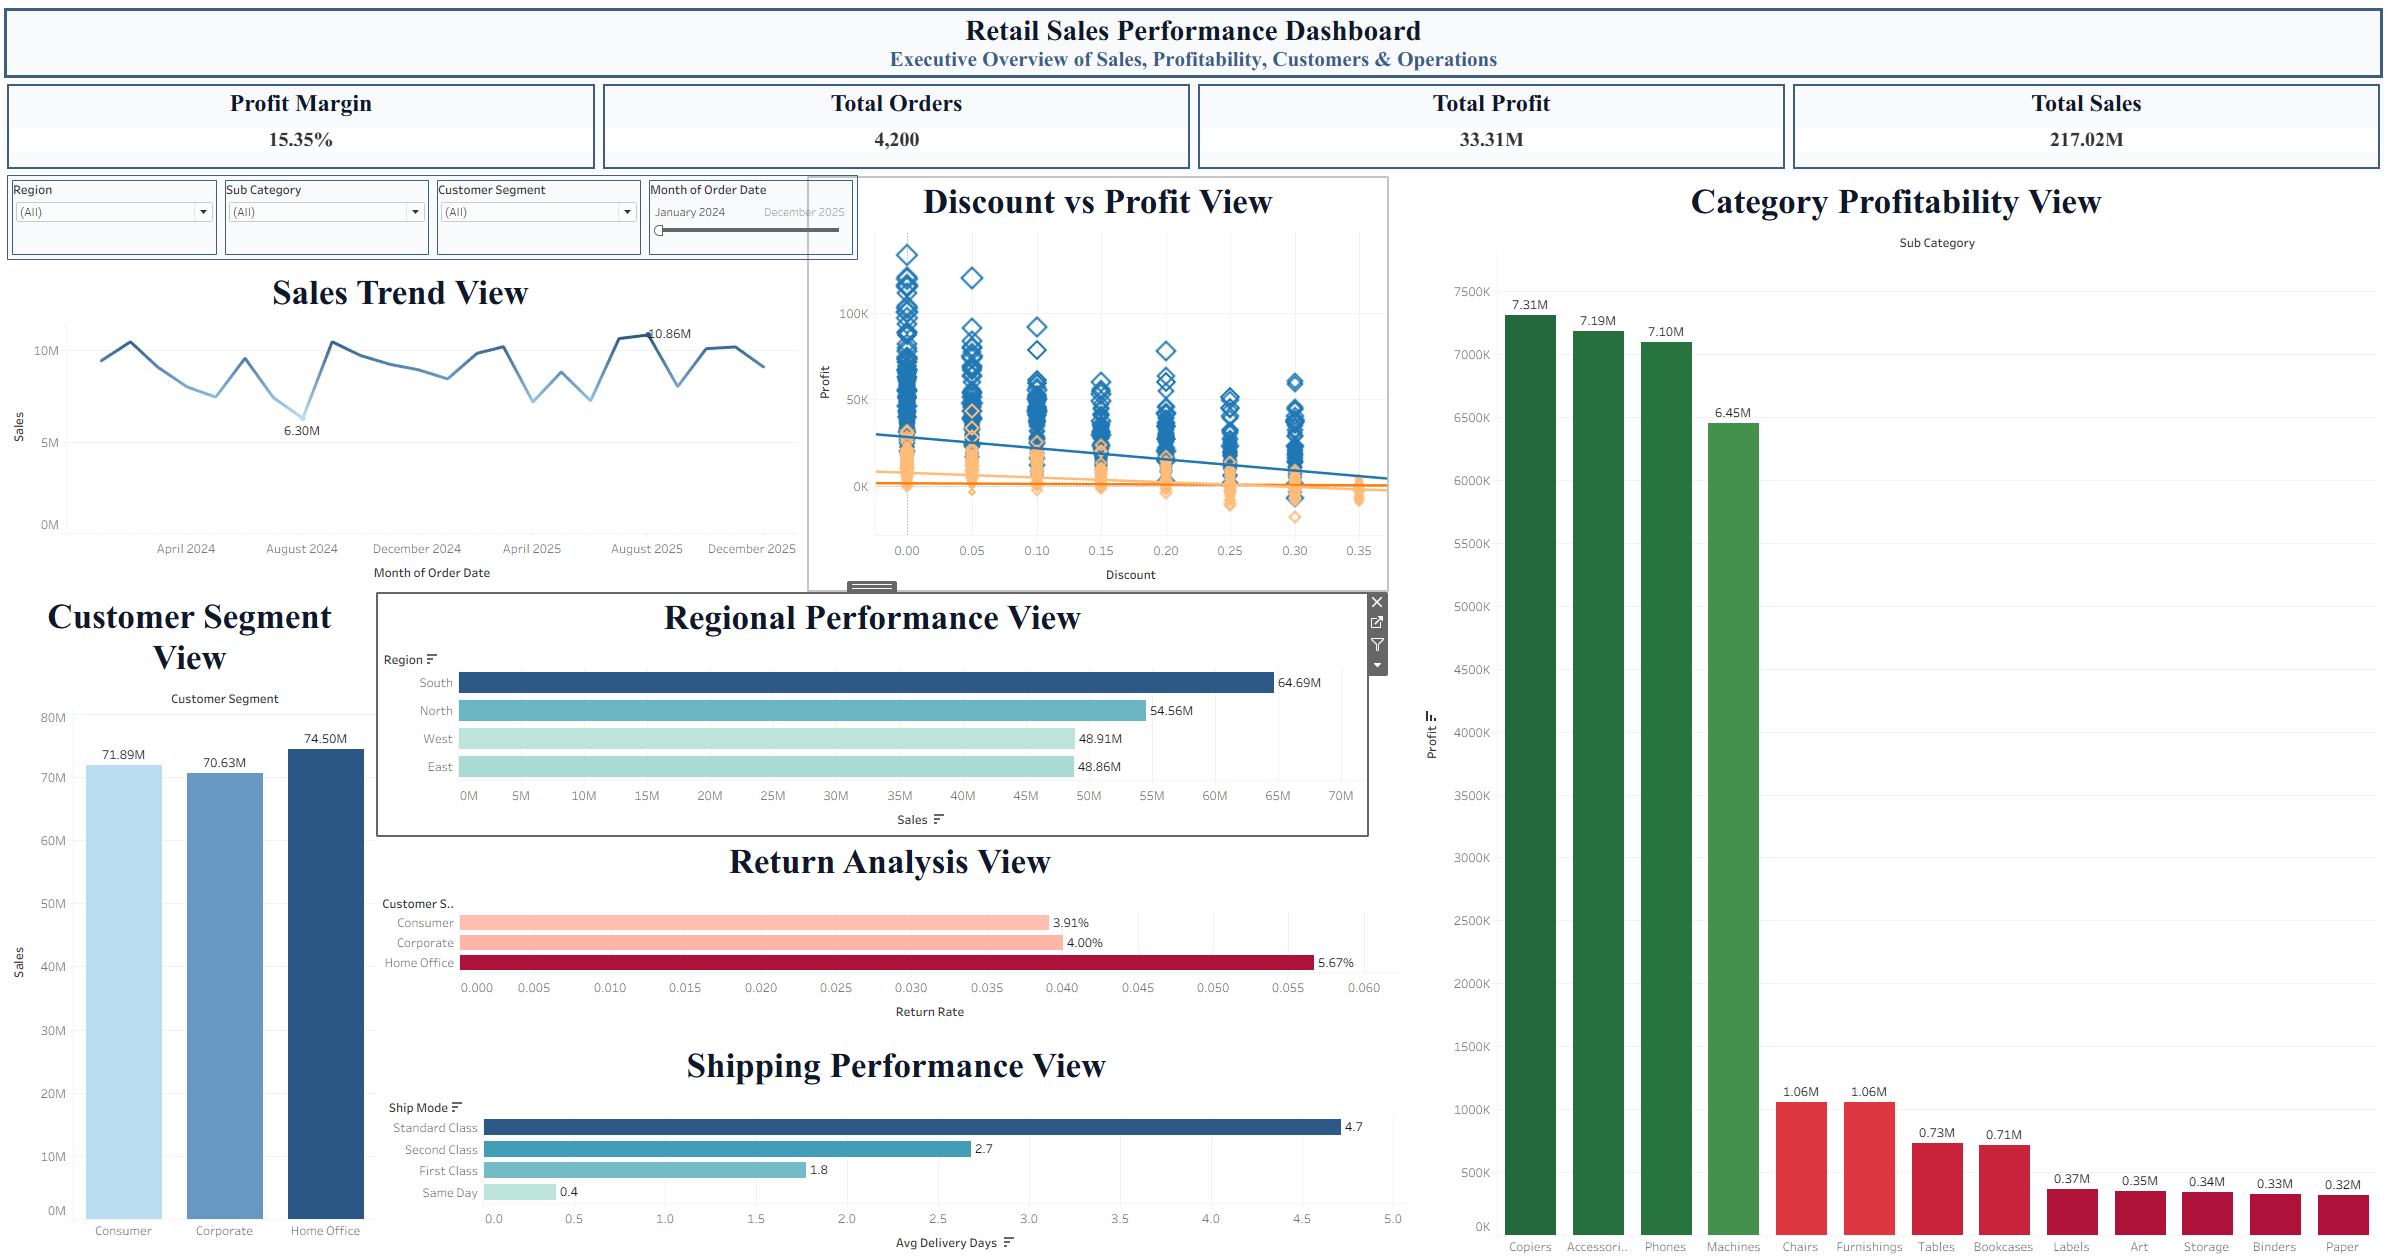

The page's visual inventory and layout, read from the dashboard file:
{"tool":"tableau","page":{"name":"executive dashboard","canvas":[1000,1000],"units":"permille","ordinal":0},"visuals":[{"type":"text","box":[2.1,7.1,995.8,55.4]},{"type":"worksheet","title":"Profit Margin","mark":"Automatic","box":[1.7,64.1,249.5,73.6]},{"type":"worksheet","title":"Total Orders","mark":"Automatic","box":[251.2,64.1,249.1,73.6]},{"type":"worksheet","title":"Total Profit","mark":"Automatic","box":[500.2,64.1,249.1,73.6]},{"type":"worksheet","title":"Total Sales","mark":"Automatic","box":[749.3,64.1,249.1,73.6]},{"type":"filter","title":"Regional Performance View","param":"[federated.0glizpe1igq69y17wckf10kld4u5].[none:region:nk]","box":[3.8,140,89.2,65.7]},{"type":"filter","title":"Category Profitability View","param":"[federated.0glizpe1igq69y17wckf10kld4u5].[none:sub_category:nk]","box":[92.9,140,88.7,65.7]},{"type":"filter","title":"Customer Segment View","param":"[federated.0glizpe1igq69y17wckf10kld4u5].[none:customer_segment:nk]","box":[181.7,140,88.7,65.7]},{"type":"filter","title":"Sales trend view","param":"[federated.0glizpe1igq69y17wckf10kld4u5].[tmn:order_date:qk]","box":[270.4,140,88.7,65.7]},{"type":"worksheet","title":"Discount vs Profit View","mark":"Automatic","rows":["profit"],"cols":["discount"],"box":[339.1,141.6,241.9,351.3]},{"type":"worksheet","title":"Category Profitability View","mark":"Automatic","rows":["profit"],"cols":["sub_category"],"box":[593,141.6,402.4,852.9]},{"type":"worksheet","title":"Sales trend view","mark":"Automatic","rows":["sales"],"cols":["order_date"],"box":[1.7,213.6,332.8,283.2]},{"type":"worksheet","title":"Regional Performance View","mark":"Automatic","rows":["region"],"cols":["profit"],"box":[158.6,493.7,414,167.7]},{"type":"worksheet","title":"Customer Segment View","mark":"Automatic","rows":["sales"],"cols":["customer_segment"],"box":[1.7,499.2,123.5,497.6]},{"type":"worksheet","title":"Return Analysis View","mark":"Automatic","rows":["customer_segment"],"cols":["Calculation_1841424209027075"],"box":[159.1,663.8,427.8,158.2]},{"type":"worksheet","title":"Shipping Performance View","mark":"Automatic","rows":["ship_mode"],"cols":["Calculation_0917009885216768"],"box":[160.7,825.2,429.9,170.9]}]}

Visuals, with their boxes on the dashboard's canvas, which has no fixed pixel size, in thousandths of its width and height (x1, y1, x2, y2). These are canvas units, not pixel positions in the 2388x1257 screenshot, which may show the page scaled, cropped or inside an application window:
text: <bbox>2, 7, 998, 62</bbox>
"Profit Margin" worksheet: <bbox>2, 64, 251, 138</bbox>
"Total Orders" worksheet: <bbox>251, 64, 500, 138</bbox>
"Total Profit" worksheet: <bbox>500, 64, 749, 138</bbox>
"Total Sales" worksheet: <bbox>749, 64, 998, 138</bbox>
"Regional Performance View" filter: <bbox>4, 140, 93, 206</bbox>
"Category Profitability View" filter: <bbox>93, 140, 182, 206</bbox>
"Customer Segment View" filter: <bbox>182, 140, 270, 206</bbox>
"Sales trend view" filter: <bbox>270, 140, 359, 206</bbox>
"Discount vs Profit View" worksheet: <bbox>339, 142, 581, 493</bbox>
"Category Profitability View" worksheet: <bbox>593, 142, 995, 994</bbox>
"Sales trend view" worksheet: <bbox>2, 214, 334, 497</bbox>
"Regional Performance View" worksheet: <bbox>159, 494, 573, 661</bbox>
"Customer Segment View" worksheet: <bbox>2, 499, 125, 997</bbox>
"Return Analysis View" worksheet: <bbox>159, 664, 587, 822</bbox>
"Shipping Performance View" worksheet: <bbox>161, 825, 591, 996</bbox>
